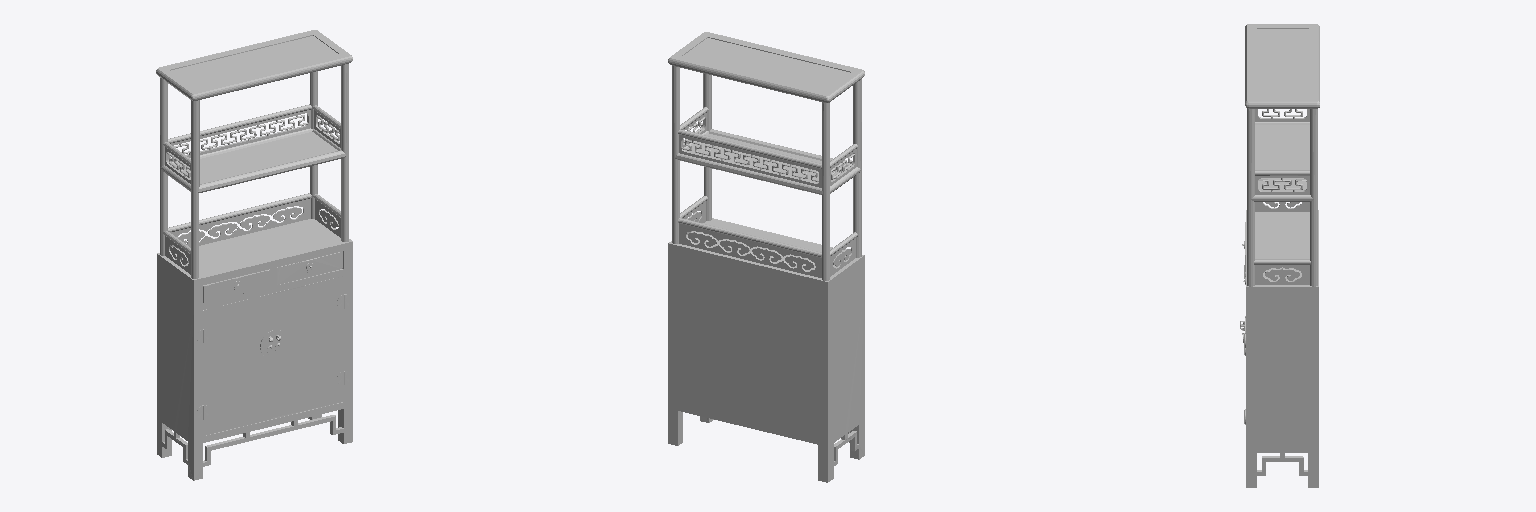
The model's file is chinese_cabinet_4k.obj.
3 views of the same model, side by side, from view 1: azimuth 30°, elevation 25°; view 2: azimuth 150°, elevation 25°; view 3: azimuth 270°, elevation 25° (orthographic).
Visible parts, largest first — view 1: chinese_cabinet, chinese_cabinet_door_02, chinese_cabinet_door_01, chinese_cabinet_drawer_01, chinese_cabinet_drawer_02; view 2: chinese_cabinet; view 3: chinese_cabinet.
Part boxes in pixels (bbox=[...]): chinese_cabinet: bbox=[156, 30, 352, 480]; chinese_cabinet_door_02: bbox=[273, 276, 344, 418]; chinese_cabinet_door_01: bbox=[203, 293, 273, 435]; chinese_cabinet_drawer_01: bbox=[203, 269, 269, 302]; chinese_cabinet_drawer_02: bbox=[277, 252, 342, 284]; chinese_cabinet: bbox=[668, 32, 864, 482]; chinese_cabinet: bbox=[1245, 24, 1319, 487].
Bounding box in the file's own units: 1.26 × 2.87 × 0.5452.